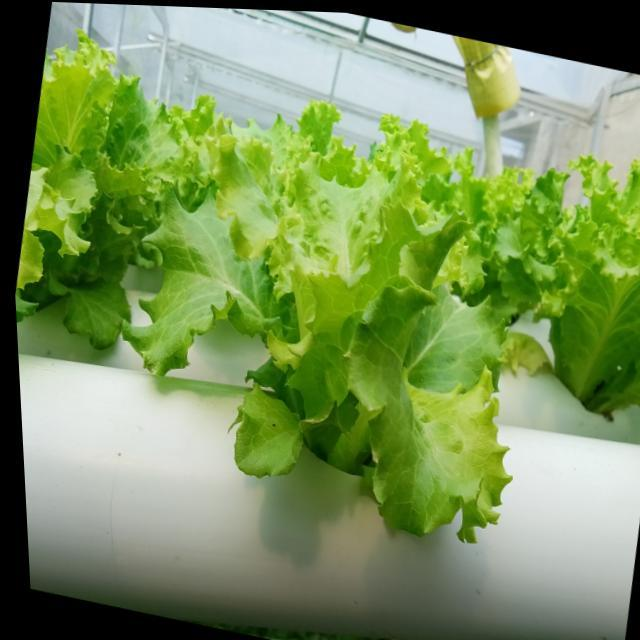Baby: (125, 123, 533, 542)
